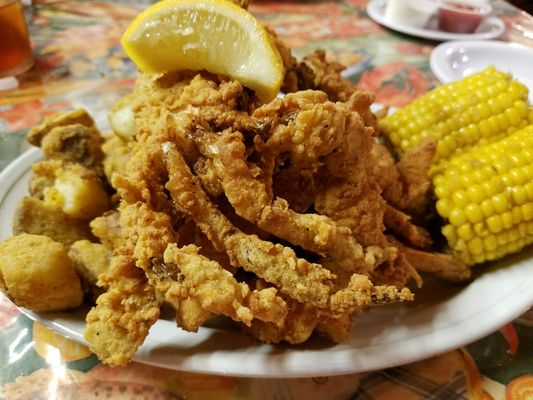taco: (119, 0, 287, 101)
